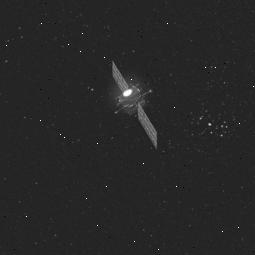smart_1: (101, 43, 168, 155)
